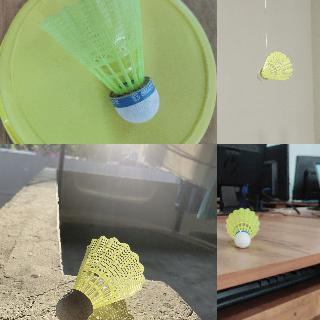shuttlecock: (39, 0, 160, 124), (56, 236, 145, 319), (225, 207, 259, 247), (256, 51, 292, 80)
